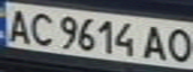1: (93, 18, 118, 55)
4: (115, 19, 142, 57)
6: (75, 16, 96, 53)
9: (54, 12, 81, 51)
A: (139, 23, 172, 62), (3, 6, 33, 44)
C: (24, 9, 57, 47)
O: (163, 26, 193, 64)
